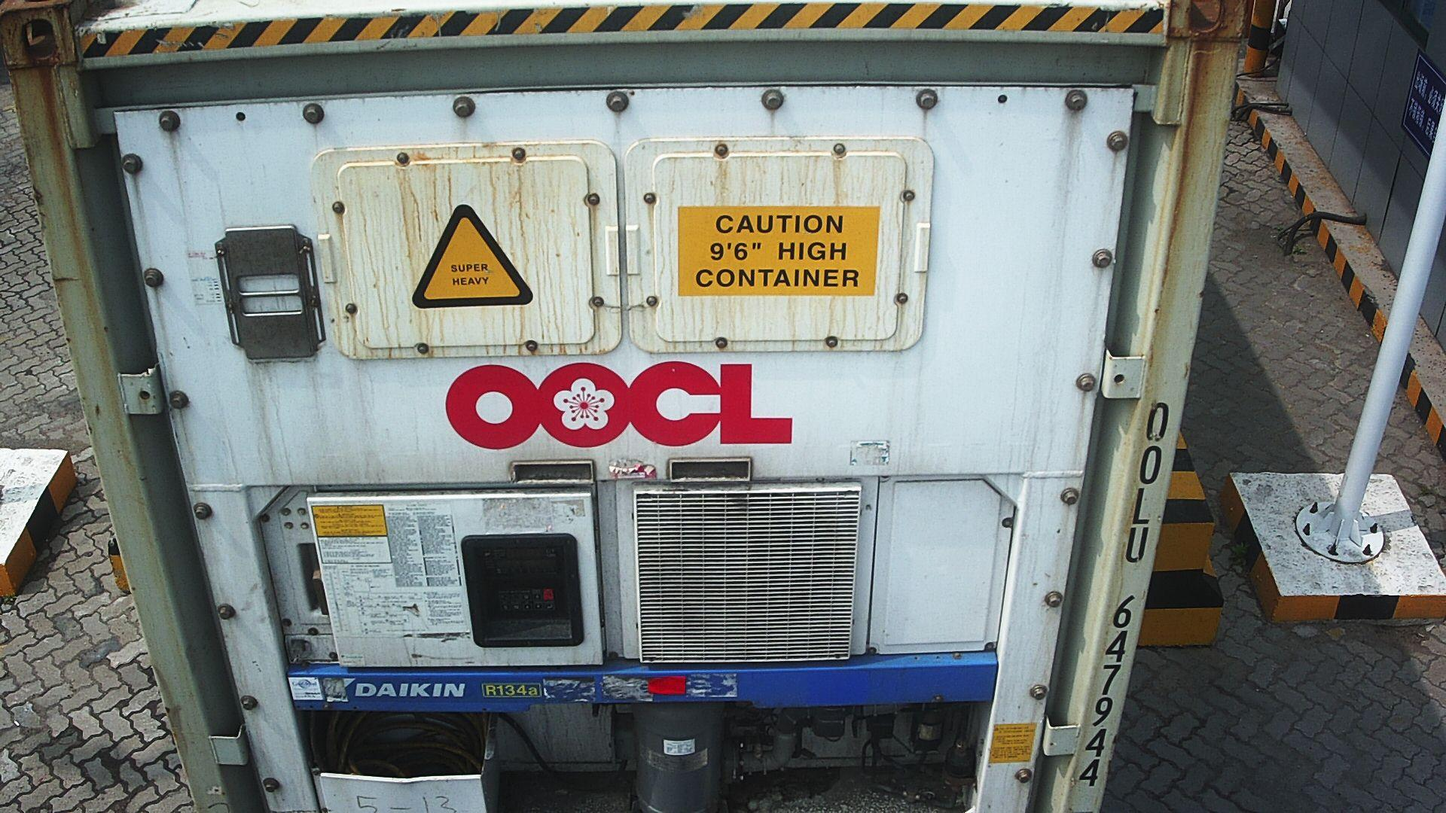container-numbers: (1069, 394, 1176, 798)
